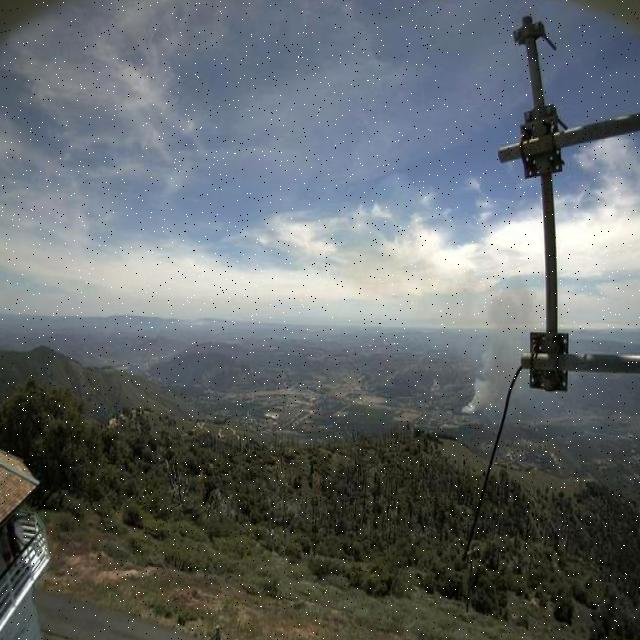smoke: (459, 280, 528, 416)
